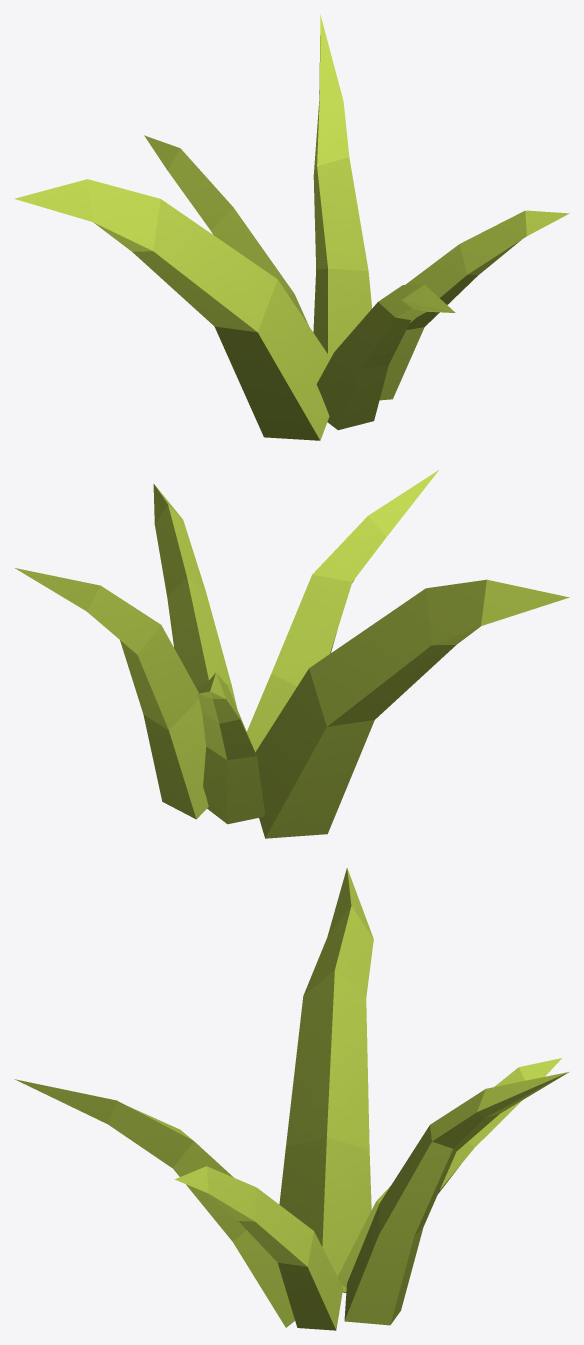
Rendered from Grass001.fbx.
3 renders of one model, top to bottom at view 1: azimuth 30°, elevation 25°; view 2: azimuth 150°, elevation 25°; view 3: azimuth 270°, elevation 25°, orthographic. The views are drawn at different scales.
Parts seen in each view (by area): view 1: Cone; view 2: Cone; view 3: Cone.
Boxes of the visible parts, x1=… form: Cone: x1=14, y1=14, x2=569, y2=440; Cone: x1=15, y1=470, x2=569, y2=838; Cone: x1=14, y1=868, x2=568, y2=1330.
Size of the model in its own units: 103 by 61.32 by 101.
